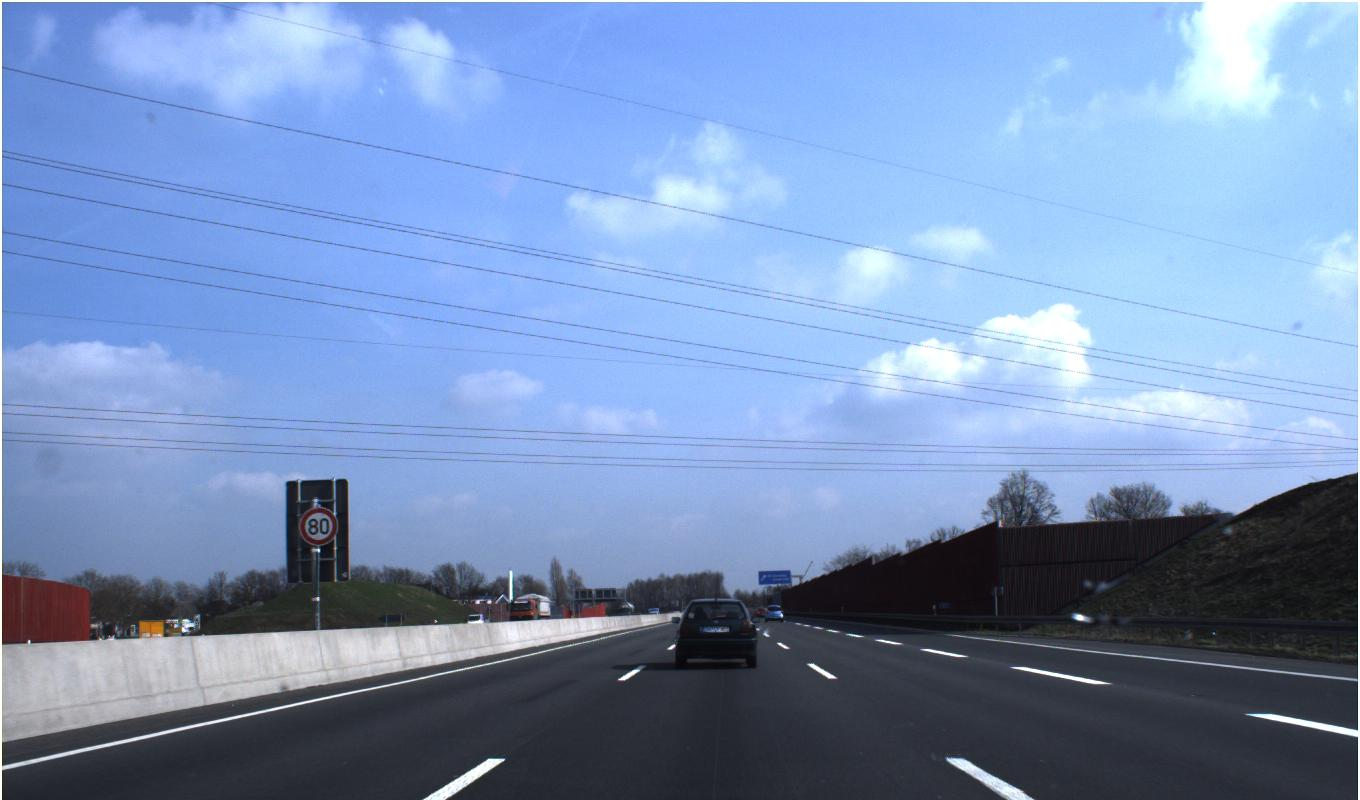prohibitory: (298, 506, 338, 546)
